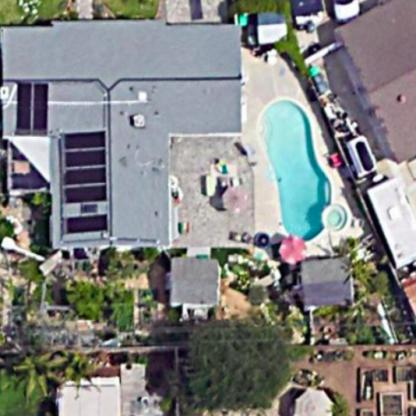car: (237, 1, 290, 45), (290, 1, 346, 35)
solar_panel: (51, 124, 111, 243), (10, 72, 59, 137)
swimming_pool: (251, 77, 348, 259)
